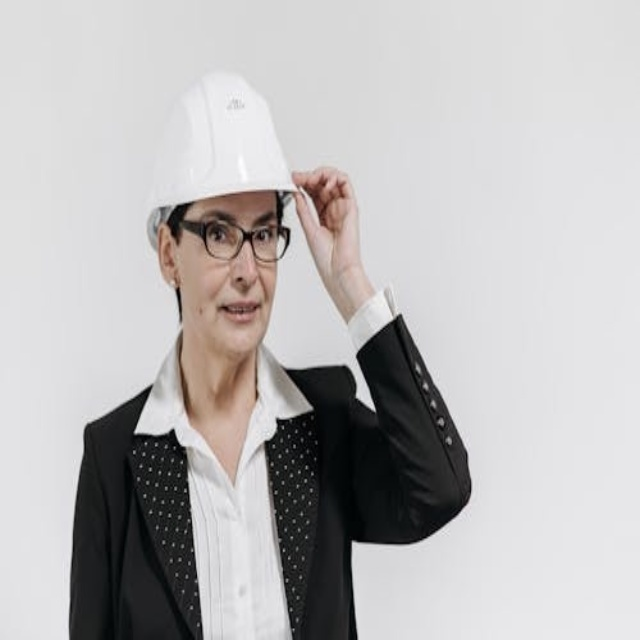Gafas: (178, 216, 292, 263)
Sin_guantes: (292, 157, 360, 274)
Sin_mascara: (211, 289, 269, 353)
